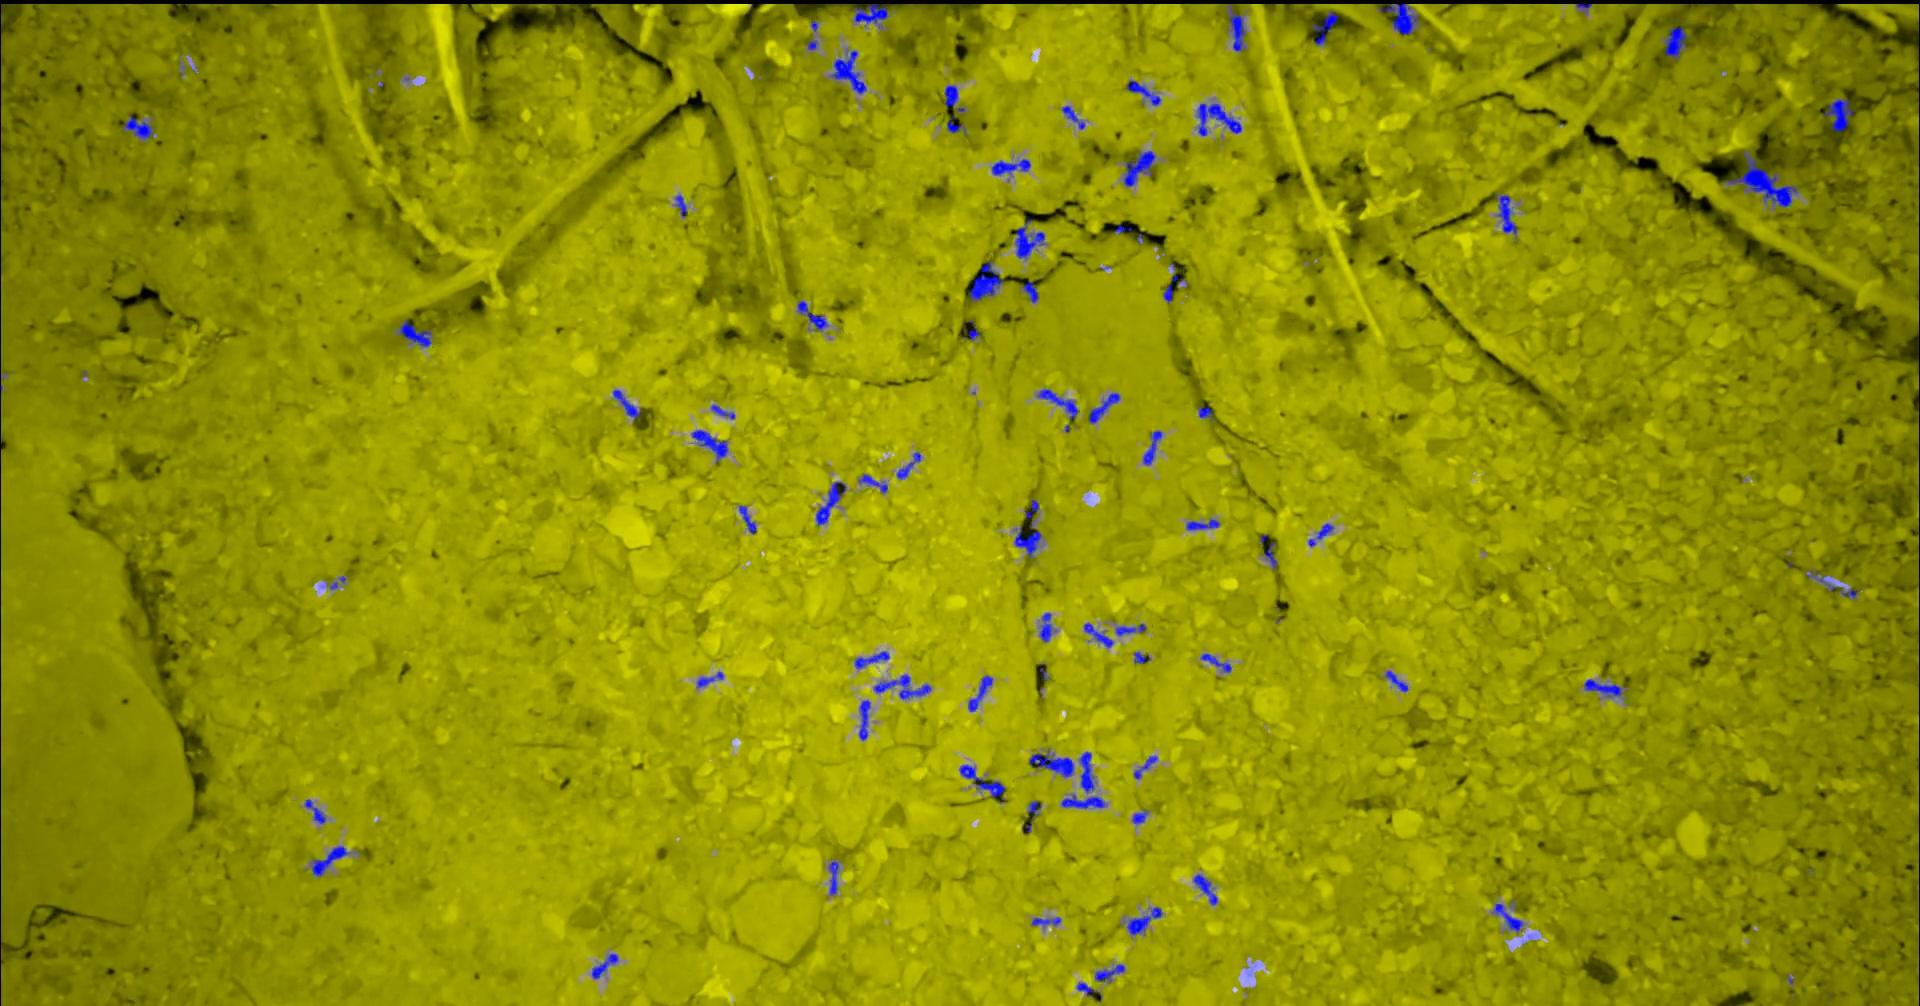ant: (1015, 499, 1041, 558), (830, 50, 866, 93), (959, 763, 1004, 796), (1036, 389, 1078, 423), (1806, 570, 1857, 598), (1196, 103, 1241, 135), (872, 674, 931, 699), (968, 260, 1002, 301), (1377, 3, 1417, 34), (815, 481, 844, 525), (691, 429, 728, 462), (1015, 217, 1044, 258), (1123, 150, 1156, 185), (1029, 751, 1073, 776), (311, 845, 348, 875), (1126, 906, 1162, 934), (1087, 392, 1119, 423), (1823, 98, 1853, 131), (797, 300, 828, 330), (1310, 11, 1338, 44), (1126, 79, 1161, 105), (1495, 194, 1517, 234), (968, 674, 992, 711), (397, 319, 430, 345), (612, 389, 640, 419), (1492, 903, 1523, 931), (1227, 3, 1244, 50), (853, 3, 888, 27), (1663, 25, 1688, 60), (1583, 678, 1625, 697), (122, 114, 152, 138), (1192, 874, 1217, 904), (1162, 274, 1186, 304), (1083, 622, 1112, 647), (1078, 751, 1095, 793), (590, 953, 617, 978), (1142, 431, 1162, 464), (990, 158, 1030, 174), (1060, 794, 1105, 808), (897, 451, 919, 478), (858, 473, 888, 493), (1133, 754, 1157, 779), (1308, 523, 1333, 546), (1200, 653, 1230, 672), (855, 652, 889, 668), (1062, 105, 1084, 130), (303, 799, 325, 823), (1095, 963, 1124, 981), (738, 506, 756, 533), (1384, 669, 1407, 691), (858, 699, 870, 741), (696, 671, 723, 687), (1115, 622, 1145, 635), (1021, 279, 1037, 302), (1039, 612, 1051, 641), (946, 114, 965, 133), (1263, 542, 1277, 568), (828, 861, 838, 895), (710, 404, 734, 418), (1076, 982, 1096, 997), (943, 85, 957, 107), (1186, 520, 1219, 528), (1027, 800, 1041, 821), (1031, 917, 1060, 926), (1131, 809, 1147, 823), (676, 196, 686, 216), (1133, 652, 1149, 663), (1197, 406, 1211, 419), (0, 140, 1, 199)
